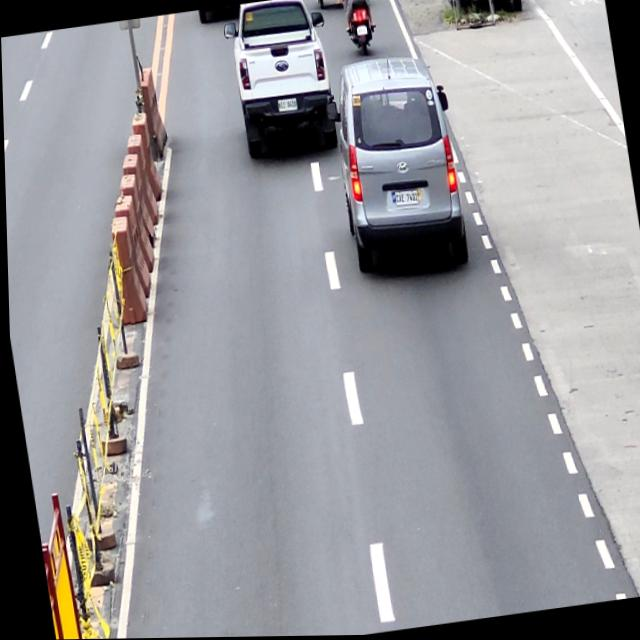Car: (320, 51, 471, 281), (219, 0, 341, 160)
License-Plate: (393, 190, 417, 207), (276, 98, 297, 113), (356, 26, 367, 36)
Motorcycle: (339, 0, 379, 61)
